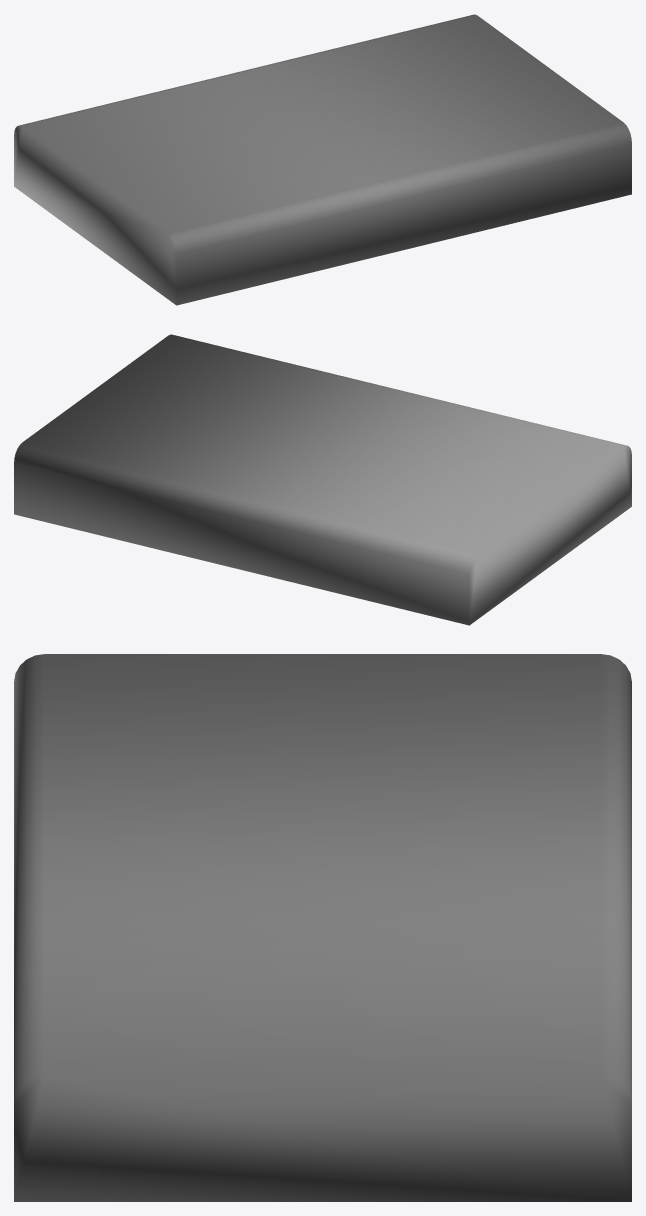
Rendered from bed1.dae.
3 renders of one model, top to bottom at view 1: azimuth 30°, elevation 25°; view 2: azimuth 150°, elevation 25°; view 3: azimuth 270°, elevation 25°, orthographic. The views are drawn at different scales.
Visible parts, largest first — view 1: Cube; view 2: Cube; view 3: Cube.
Boxes of the visible parts, x1=… form: Cube: x1=14, y1=14, x2=631, y2=305; Cube: x1=14, y1=334, x2=631, y2=625; Cube: x1=14, y1=654, x2=631, y2=1201.
Bounding box in the file's own units: 3.24 × 2 × 0.4477.
1 material, 1 textured.
